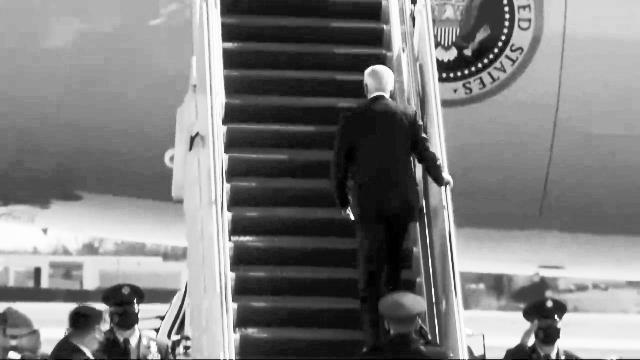berjalan: (330, 60, 452, 332)
